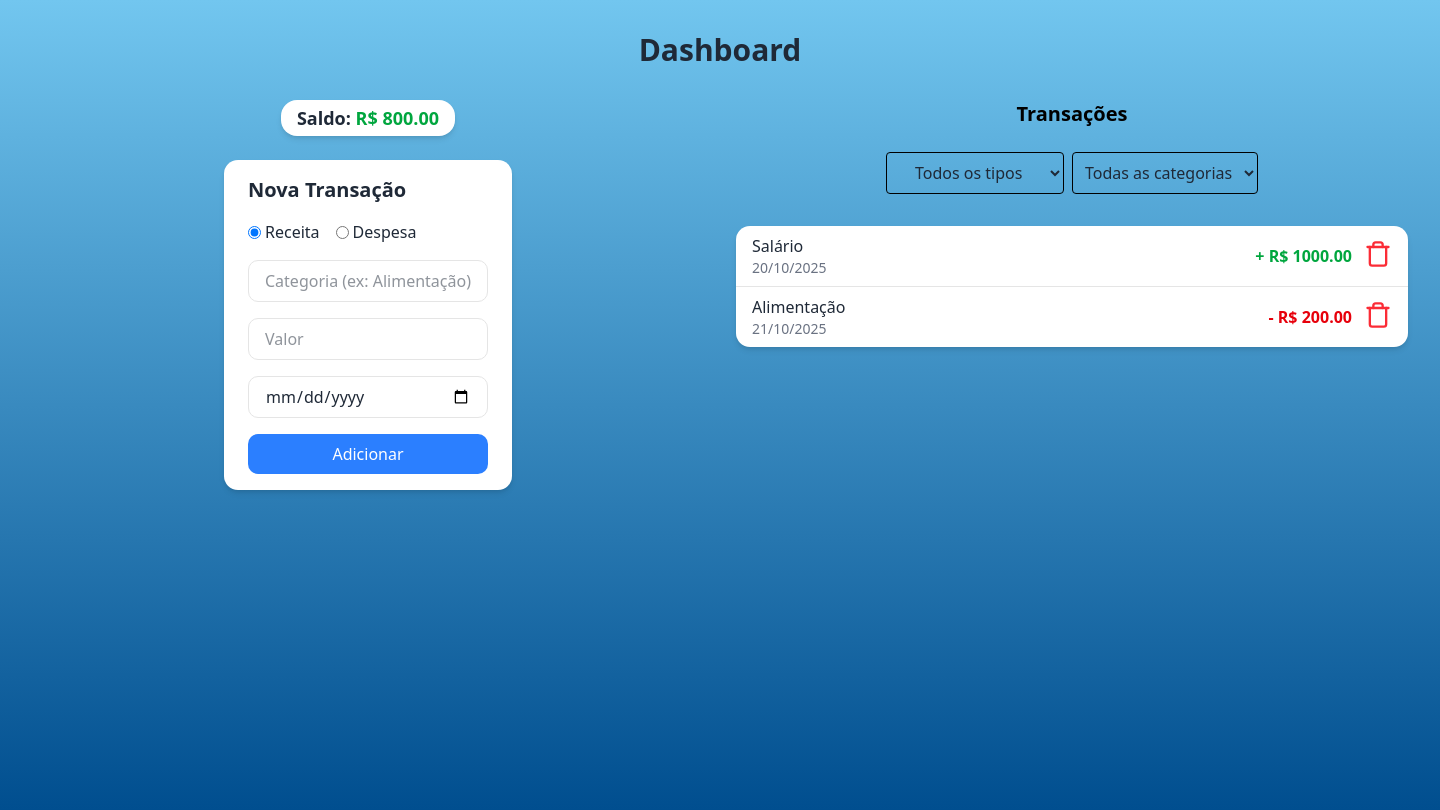
Scenario: Dashboard › exclui uma transação e atualiza o saldo
Expected: the list item with test id "transaction-1" shows "Salário", [752, 235, 803, 257]
Expected: the list item with test id "transaction-1" shows "+ R$ 1000.00", [736, 226, 1408, 287]
Step 1. Click the button named "Excluir transação Alimentação" → (1378, 317), box [1364, 300, 1392, 334]
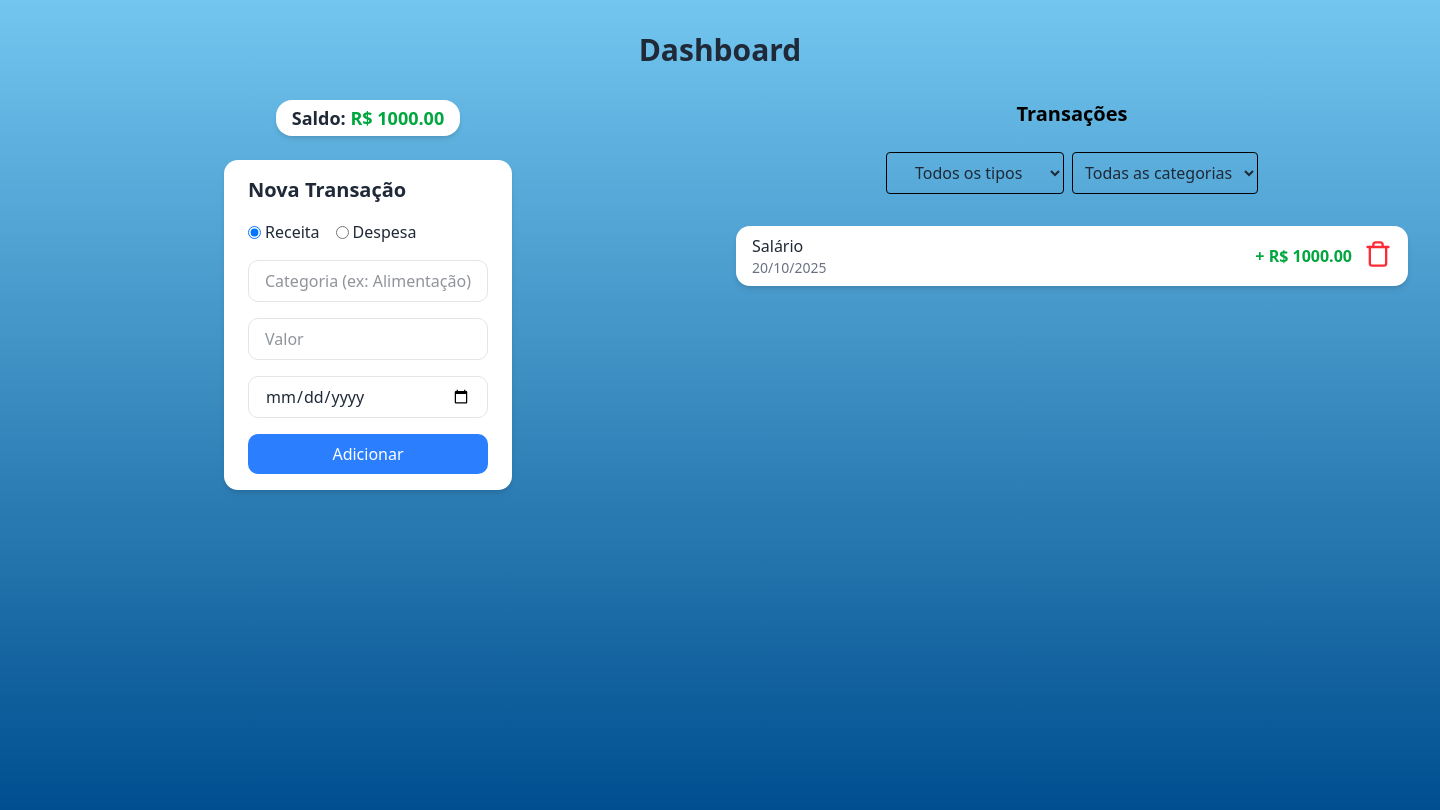
Expected: the list item with test id "transaction-2" is gone
Expected: the text "R$ 1000.00" is shown, [350, 106, 444, 130]
